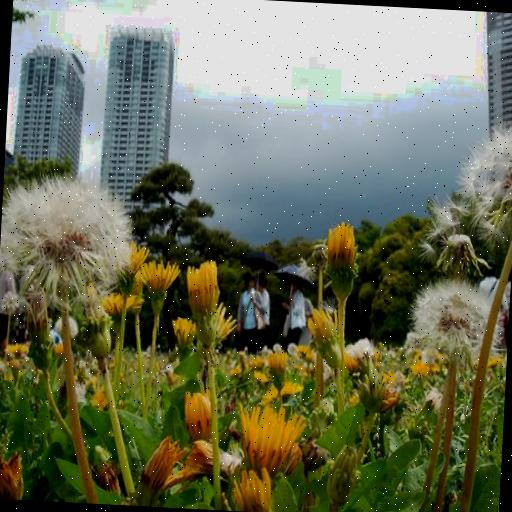dandelion: (0, 172, 139, 303), (411, 278, 508, 361)
